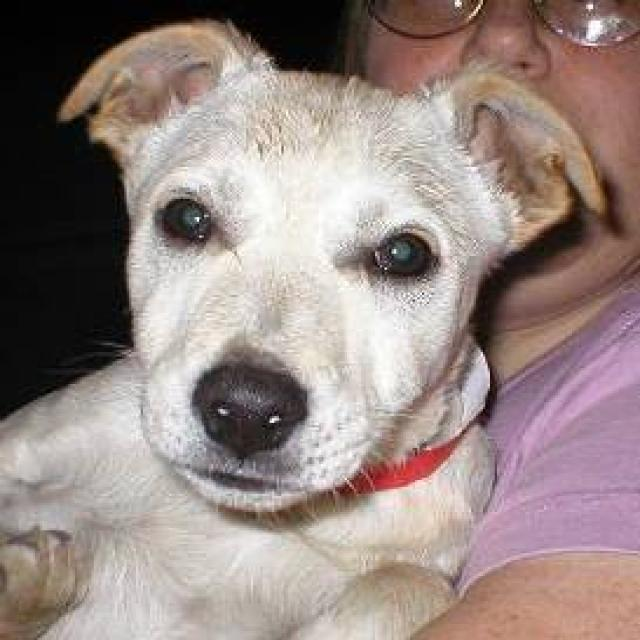dog: (0, 16, 607, 638)
